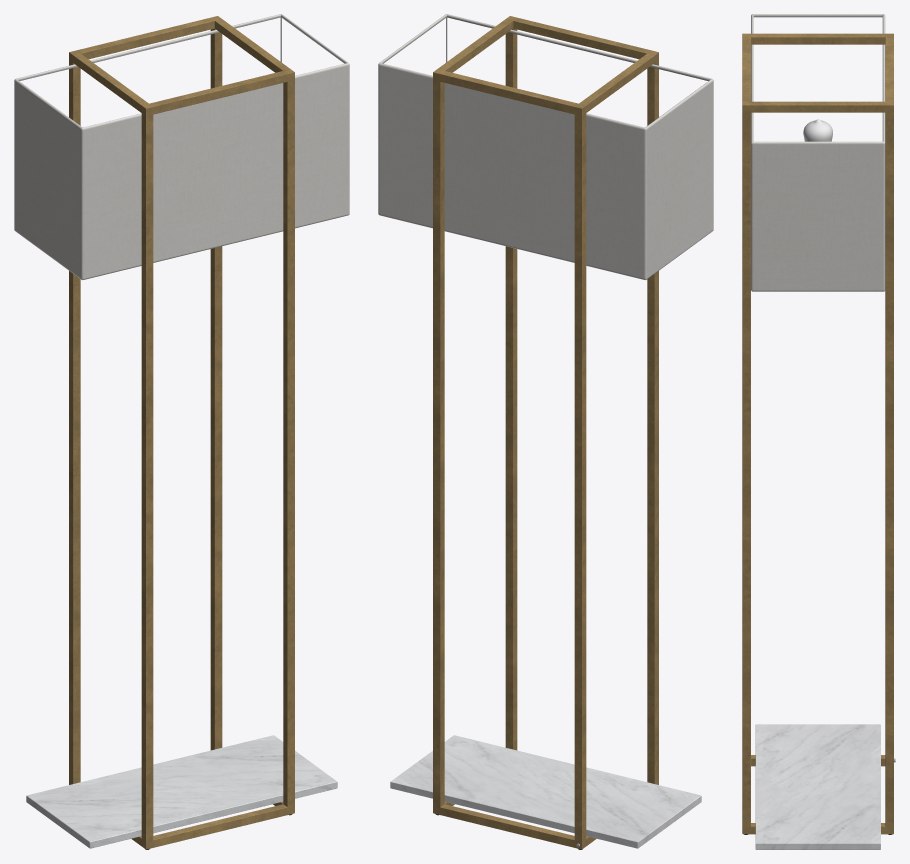
File: dauphine.gltf
3 renders of one model, left to right at view 1: azimuth 30°, elevation 25°; view 2: azimuth 150°, elevation 25°; view 3: azimuth 270°, elevation 25°, orthographic.
Parts seen in each view (by area): view 1: CB2_Dauphine_Floor_Lamp; view 2: CB2_Dauphine_Floor_Lamp; view 3: CB2_Dauphine_Floor_Lamp.
Boxes of the visible parts, bbox=[...] form: CB2_Dauphine_Floor_Lamp: bbox=[14, 14, 349, 849]; CB2_Dauphine_Floor_Lamp: bbox=[378, 14, 713, 849]; CB2_Dauphine_Floor_Lamp: bbox=[742, 14, 895, 849].
Bounding box in the file's own units: 0.603 × 1.59 × 0.303.
Materials: 1 (1 with a texture image).
